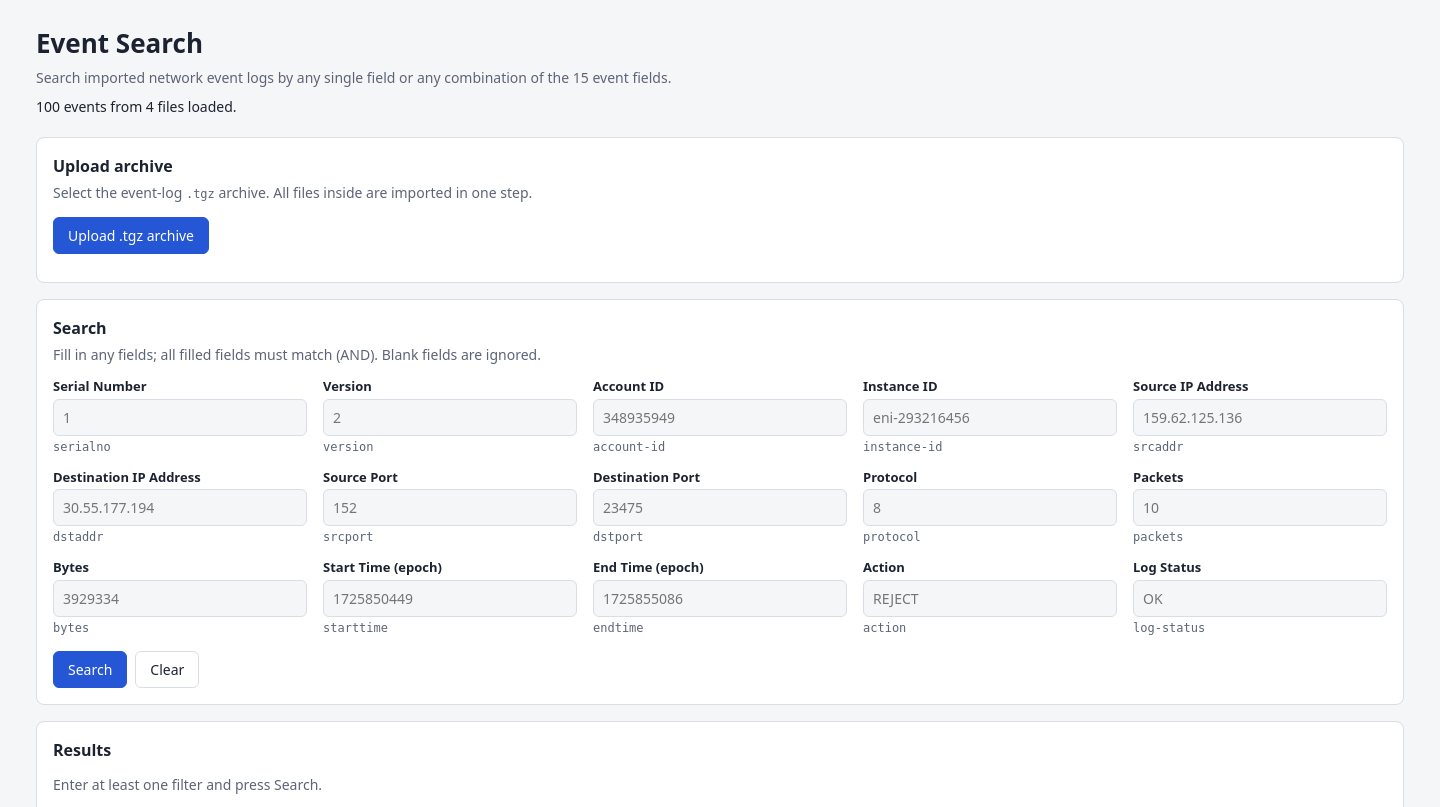
Scenario: search form › refuses an empty search with a message and no request
Click the button "Search".
click(90, 669)  # box [53,650,127,688]
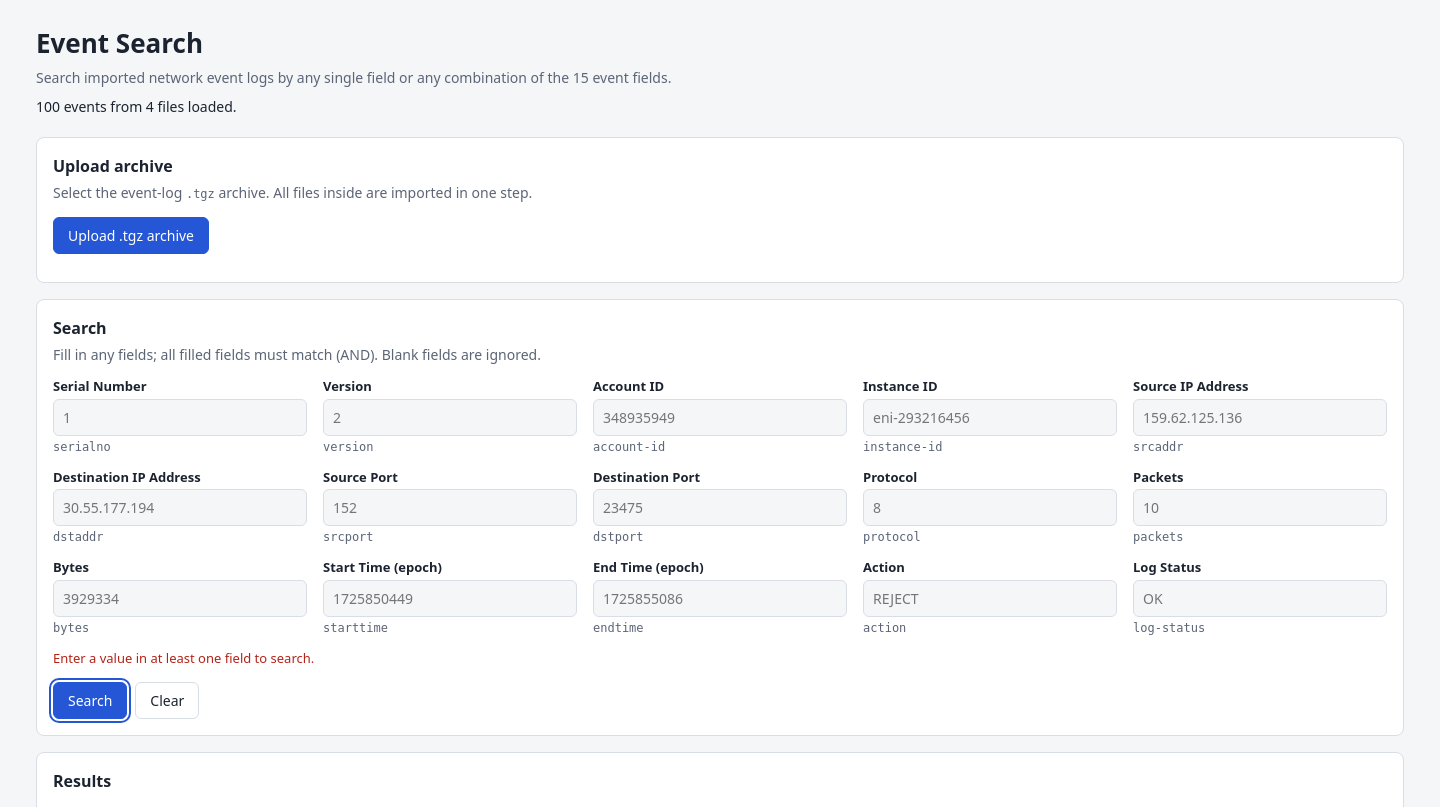
Now the text "Enter a value in at least one field to search." is shown, box [53,648,314,666]
